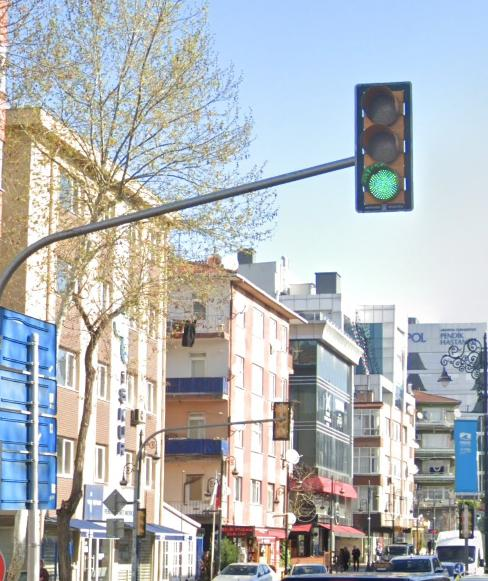greenlight: (353, 86, 410, 213)
